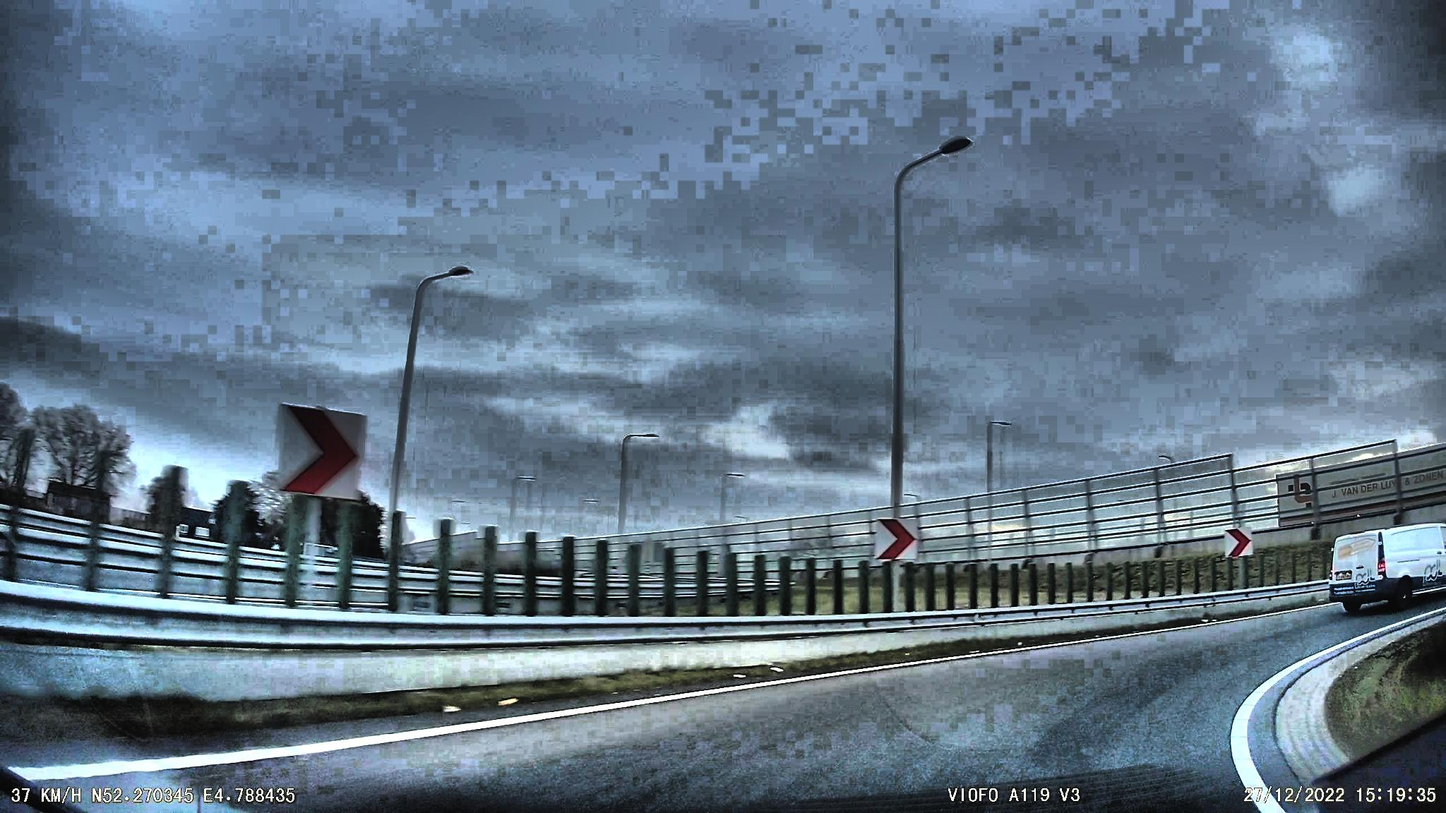Roads: (9, 597, 1446, 813)
